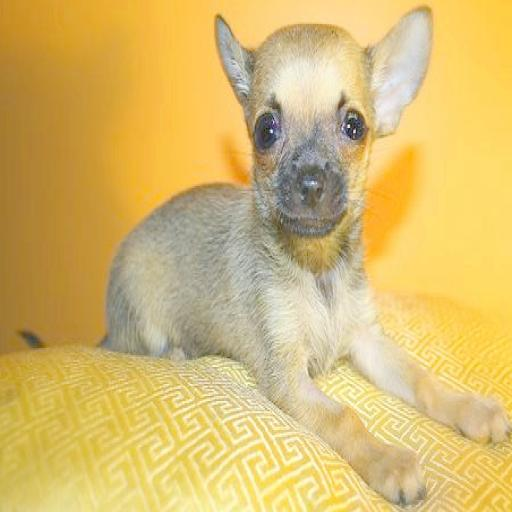dog_face: (213, 1, 430, 224)
